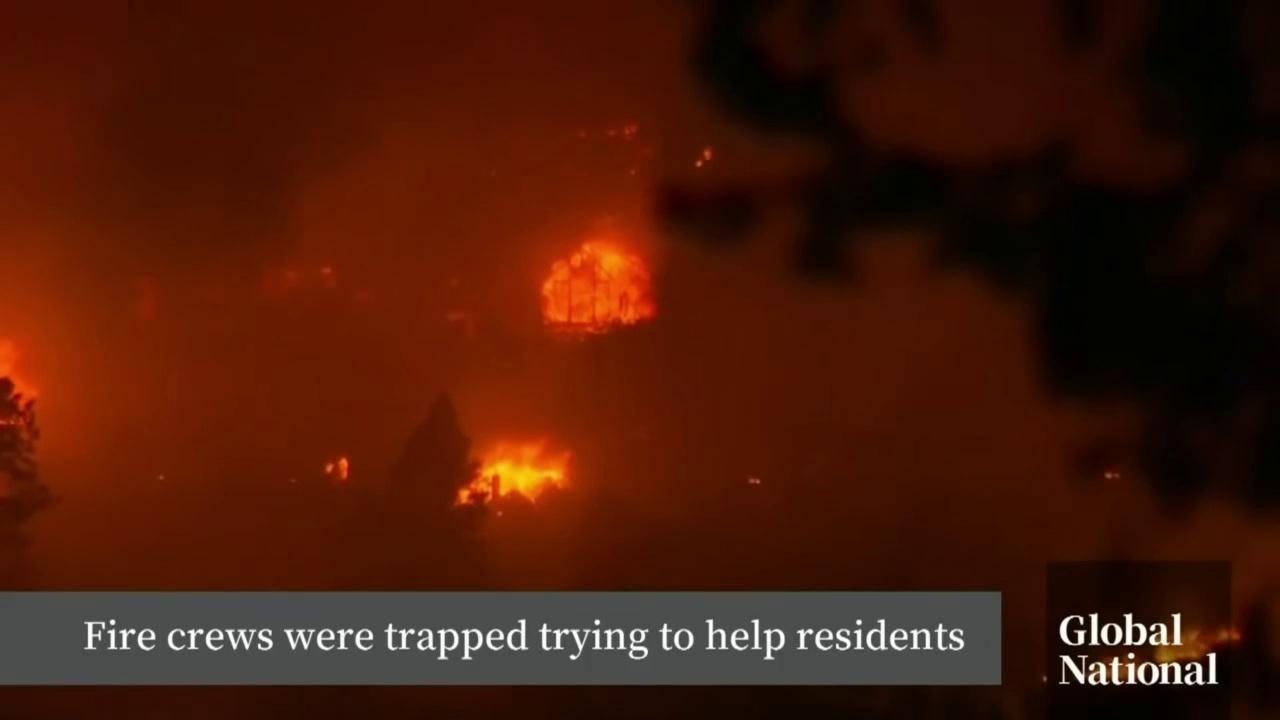fire: (537, 225, 657, 341), (452, 430, 583, 509), (0, 325, 45, 423), (320, 447, 356, 485), (1102, 467, 1125, 485), (745, 473, 762, 488), (704, 147, 715, 164), (695, 158, 703, 169)
smoke: (0, 0, 1280, 591)
